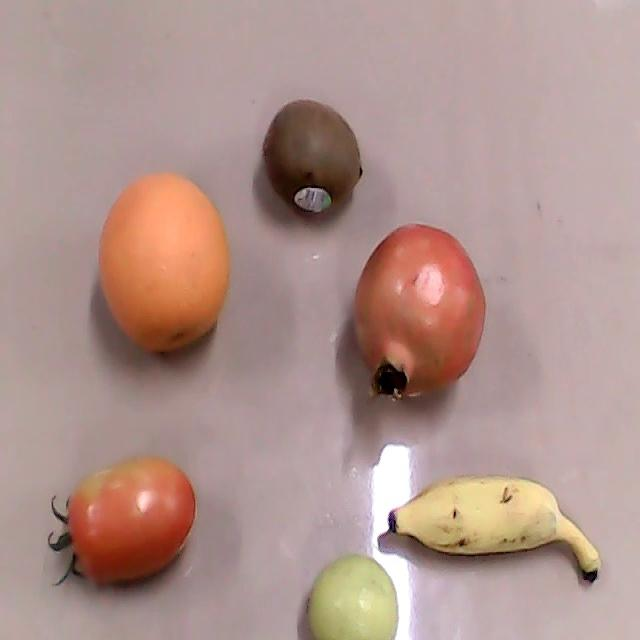kiwi: (262, 99, 364, 216)
lemon: (307, 551, 399, 639)
orange: (100, 171, 230, 351)
pomegranate: (354, 223, 486, 402)
tomato: (47, 454, 196, 585)
